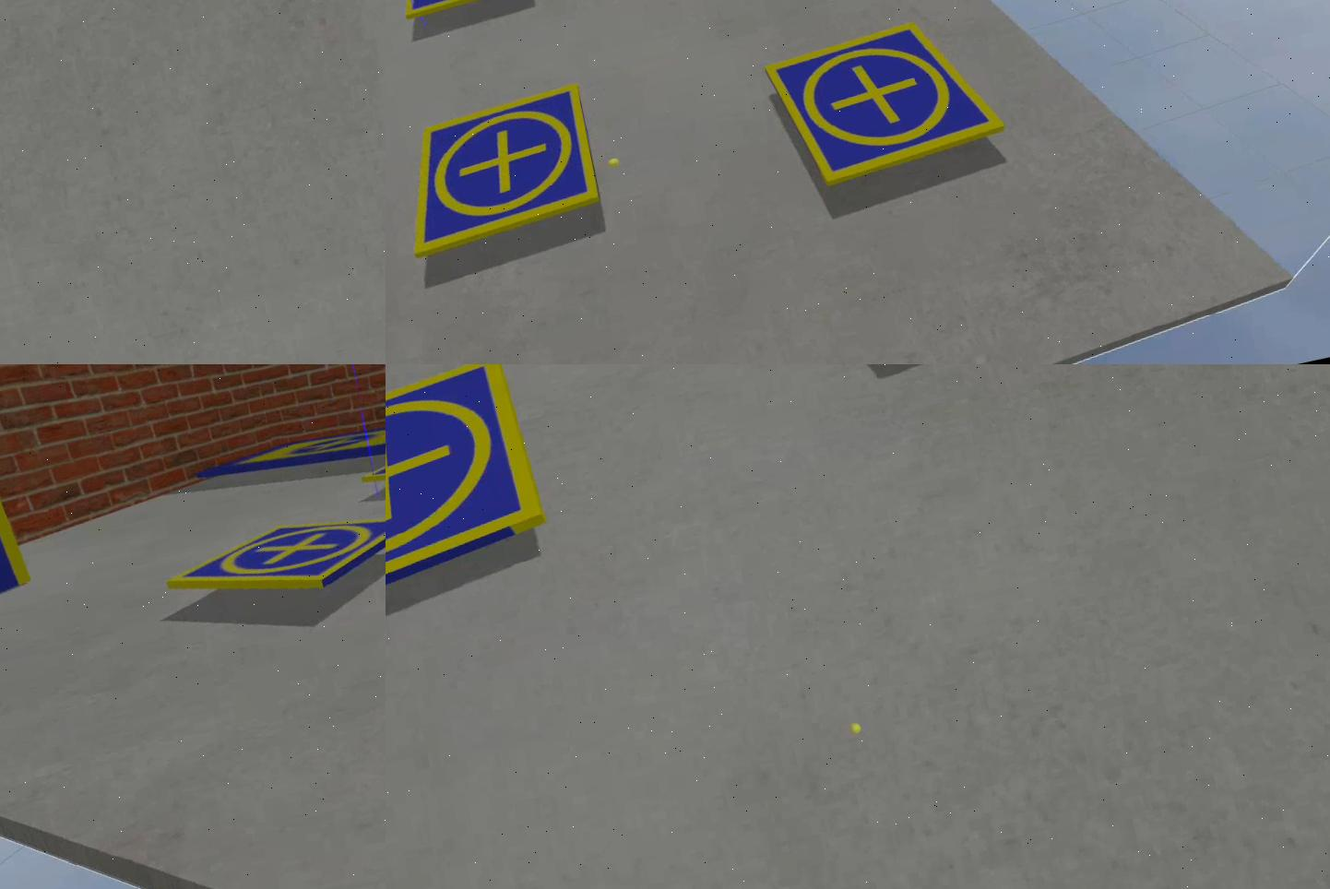large_base: (194, 400, 386, 495)
small_base: (764, 8, 1013, 197), (386, 365, 558, 626), (387, 86, 612, 261), (161, 495, 386, 618), (392, 1, 540, 23)
